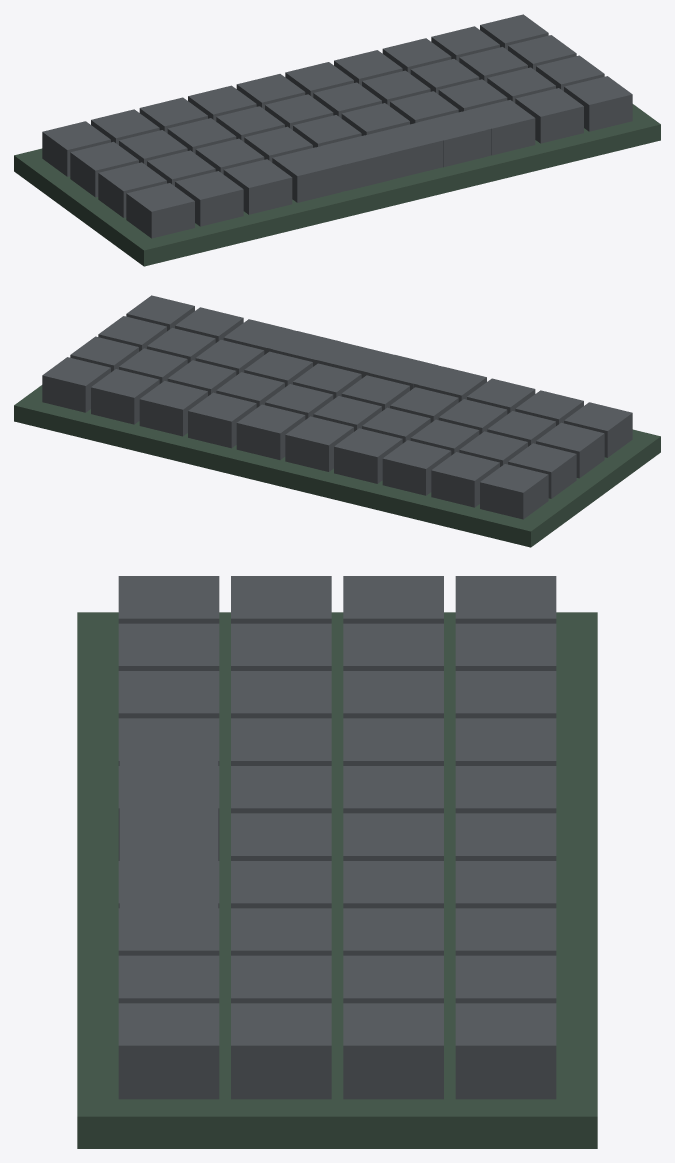
The model's file is keyboard-sb-40.glb.
3 views of the same model, one above another, from view 1: azimuth 30°, elevation 25°; view 2: azimuth 150°, elevation 25°; view 3: azimuth 270°, elevation 25° (orthographic). The views are drawn at different scales.
Visible parts, largest first — view 1: geometry_0, geometry_36, geometry_31, geometry_33, geometry_32, geometry_40, geometry_39, geometry_34, geometry_38, geometry_37, geometry_35, geometry_1 (+29 smaller); view 2: geometry_0, geometry_36, geometry_1, geometry_3, geometry_6, geometry_2, geometry_4, geometry_5, geometry_10, geometry_8, geometry_9, geometry_7 (+29 smaller); view 3: geometry_0, geometry_36, geometry_10, geometry_40, geometry_20, geometry_30, geometry_9, geometry_39, geometry_19, geometry_29, geometry_1, geometry_4 (+29 smaller).
Boxes of the visible parts, x1,y1,x2,y2 form: geometry_0: (14, 104, 660, 266); geometry_36: (316, 110, 491, 191); geometry_31: (126, 183, 194, 238); geometry_33: (223, 159, 292, 214); geometry_32: (175, 171, 243, 226); geometry_40: (564, 76, 632, 131); geometry_39: (515, 88, 583, 143); geometry_34: (272, 147, 340, 202); geometry_38: (467, 100, 535, 155); geometry_37: (418, 111, 486, 167); geometry_35: (321, 135, 389, 190); geometry_1: (42, 121, 110, 176); geometry_0: (14, 385, 660, 547); geometry_36: (266, 329, 442, 388); geometry_1: (480, 464, 548, 519); geometry_3: (382, 440, 451, 495); geometry_6: (236, 404, 305, 459); geometry_2: (431, 452, 499, 507); geometry_4: (334, 428, 402, 483); geometry_5: (285, 416, 353, 471); geometry_10: (42, 357, 110, 412); geometry_8: (139, 381, 207, 436); geometry_9: (91, 369, 159, 424); geometry_7: (188, 392, 256, 448); geometry_0: (77, 612, 597, 1148); geometry_36: (119, 760, 218, 910); geometry_10: (455, 1003, 556, 1099); geometry_40: (118, 1003, 219, 1099); geometry_20: (343, 1003, 443, 1099); geometry_30: (231, 1003, 331, 1099); geometry_9: (455, 955, 556, 1003); geometry_39: (118, 955, 219, 1003); geometry_19: (343, 955, 443, 1003); geometry_29: (231, 955, 331, 1003); geometry_1: (455, 576, 556, 623); geometry_4: (455, 718, 556, 765).
Bounding box in the file's own units: 0.202 × 0.016 × 0.088.
